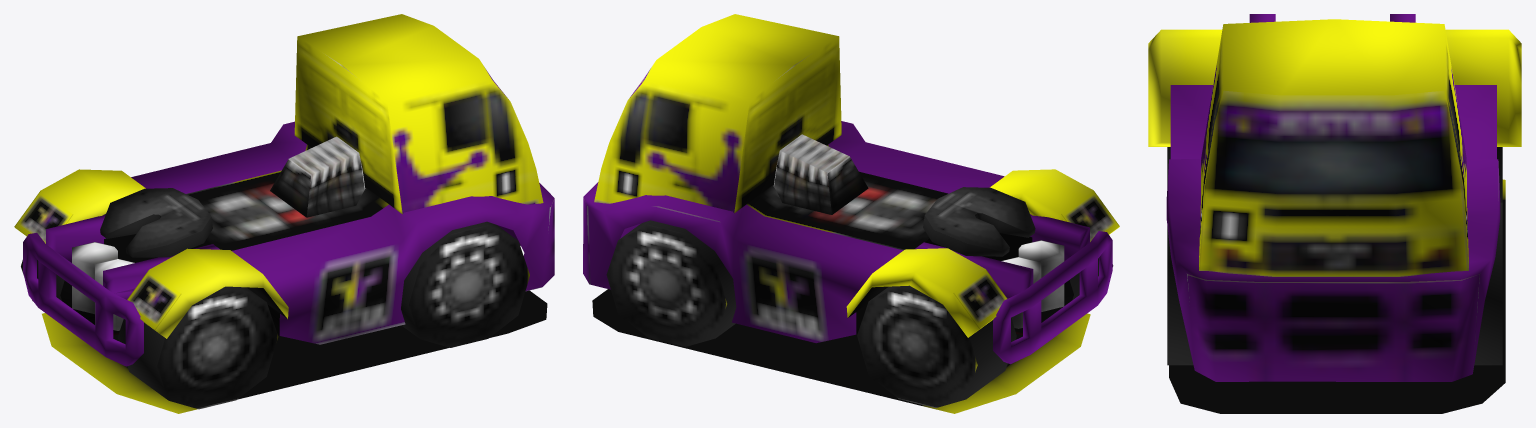
Rendered from trucks.ico.obj.
The picture shows the model from 3 angles, left to right: view 1: azimuth 30°, elevation 25°; view 2: azimuth 150°, elevation 25°; view 3: azimuth 270°, elevation 25°; orthographic projection. The views are drawn at different scales.
Bounding box in the file's own units: 4.93 × 2.62 × 2.96.
1 material, 1 textured.
